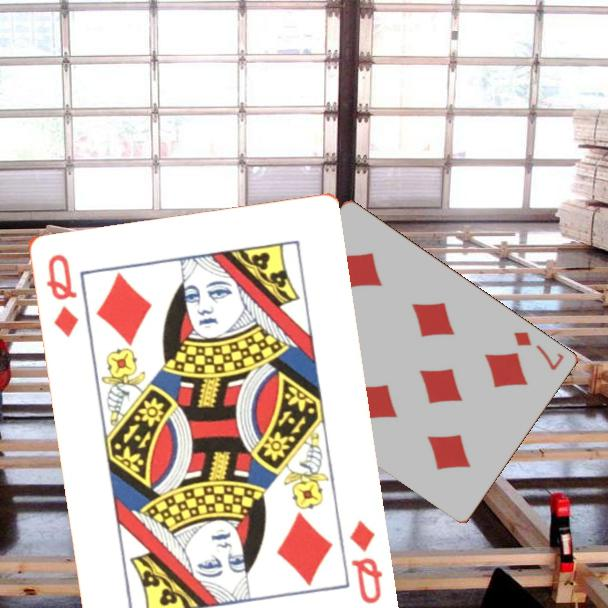d07: (511, 328, 568, 373)
d12: (345, 516, 385, 607), (42, 250, 81, 340)
